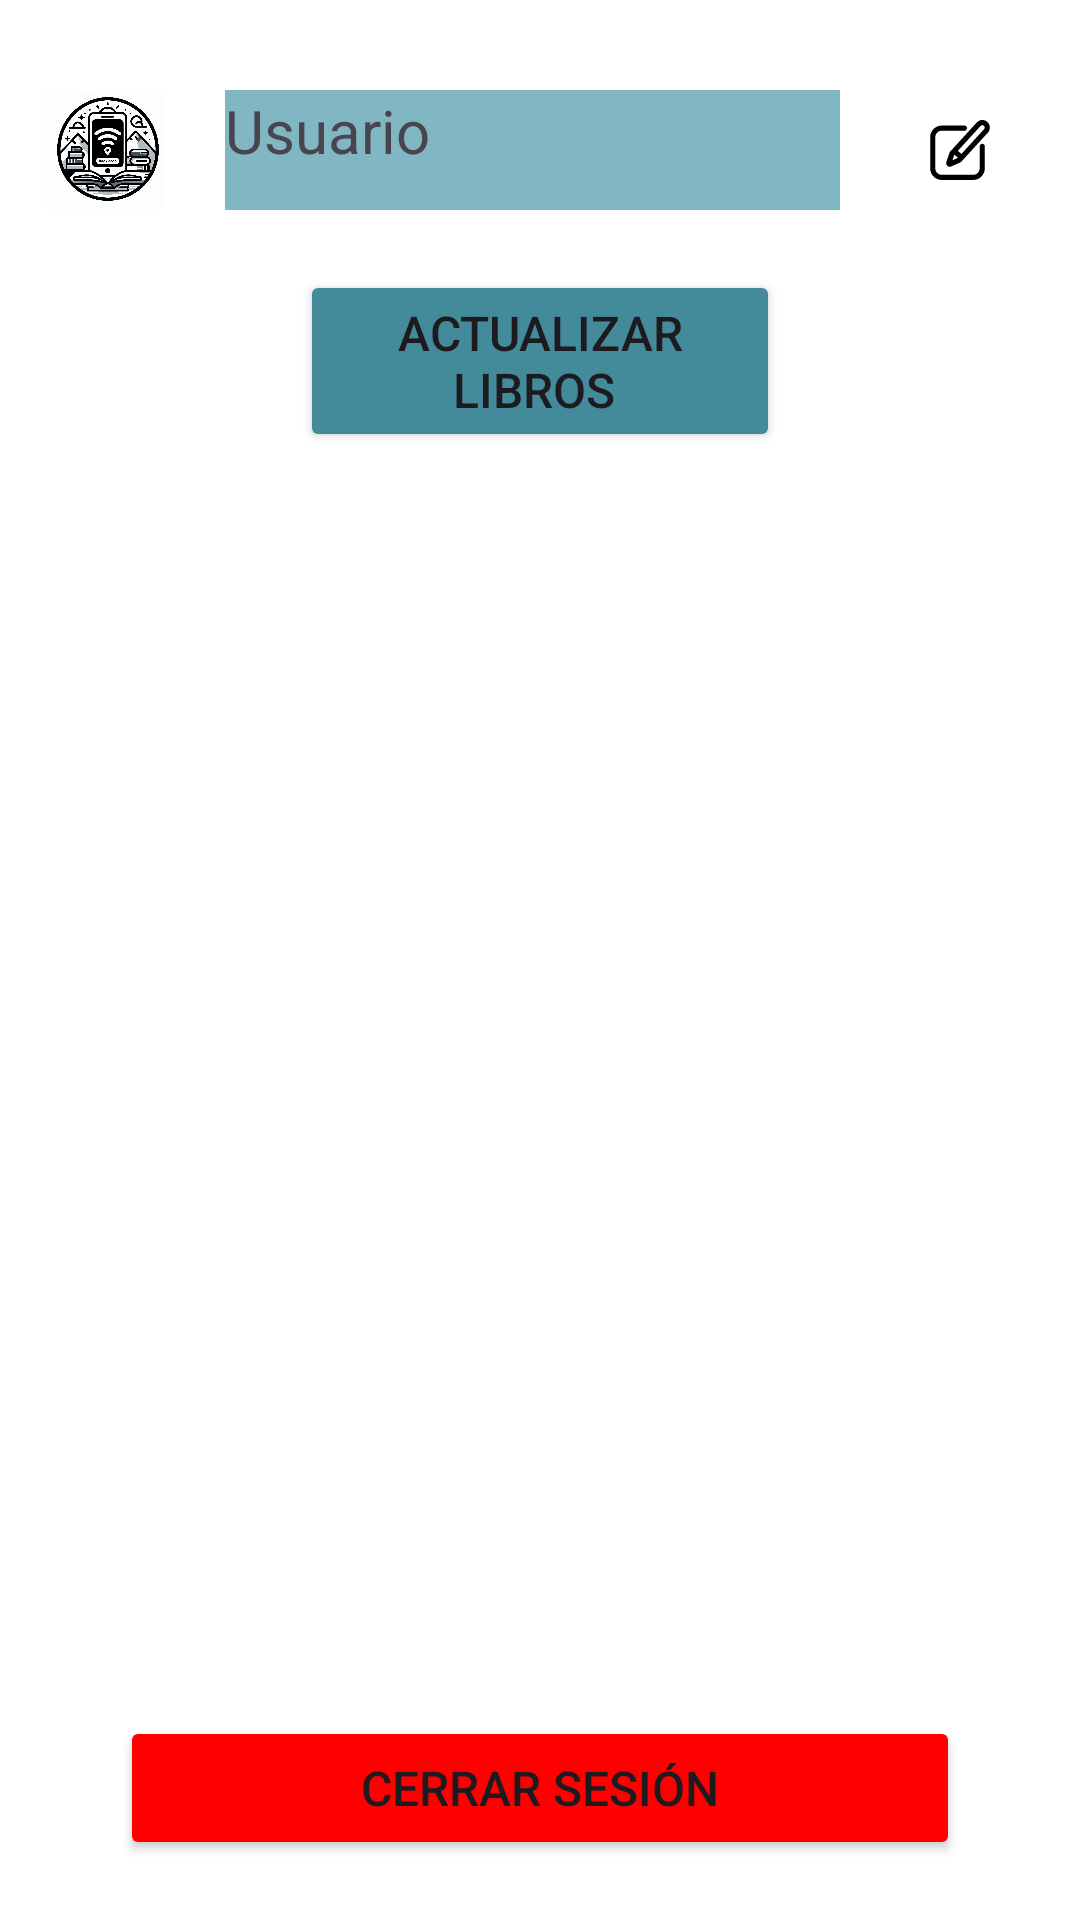

Named icons in this screenshot (1080 × 1920) and their bounding boxes, (x1, y1, x2, y2):
edit: (930, 120, 990, 180)
